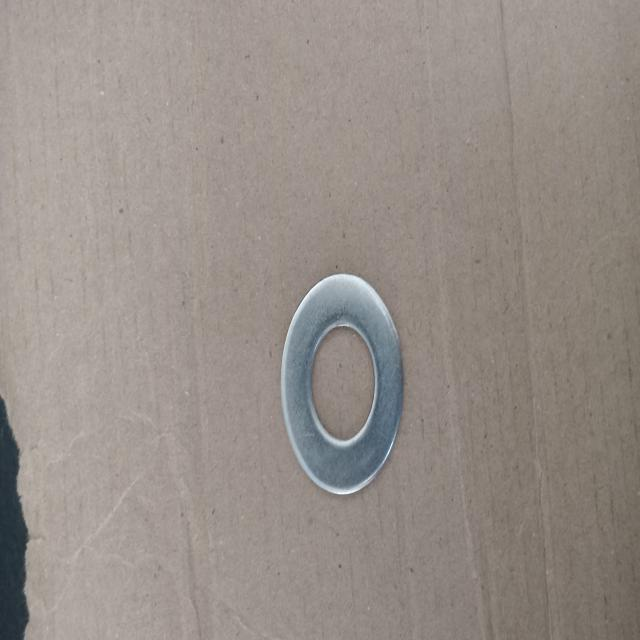washer: (280, 271, 404, 495)
